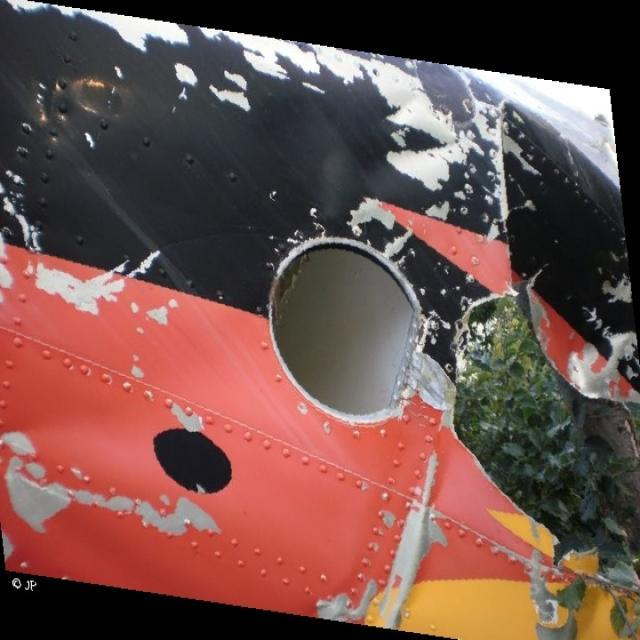dent: (266, 100, 390, 220), (1, 395, 155, 472)
